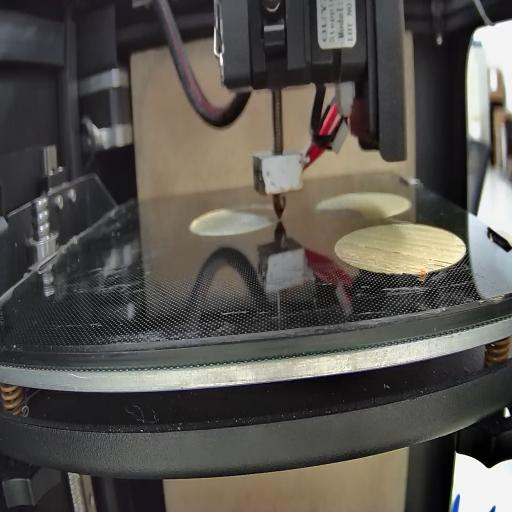under_extrusion: (360, 243, 402, 257), (425, 254, 450, 272), (404, 262, 424, 274), (338, 257, 359, 266), (452, 239, 466, 251)
